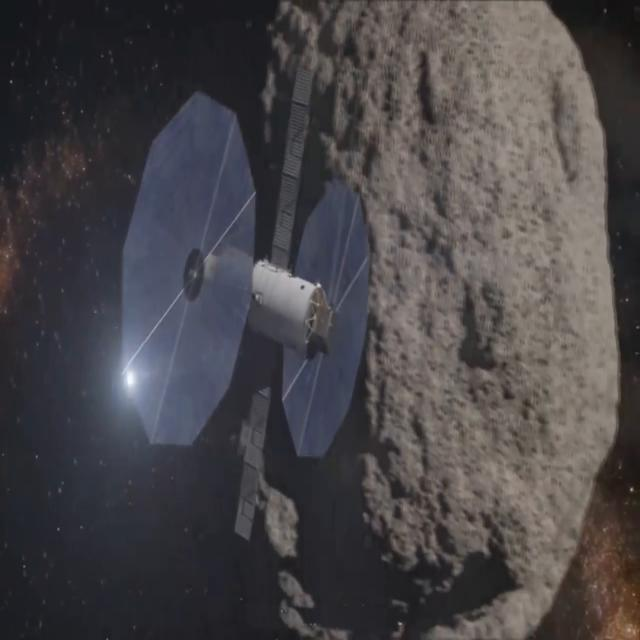medium_debris: (114, 41, 406, 540)
